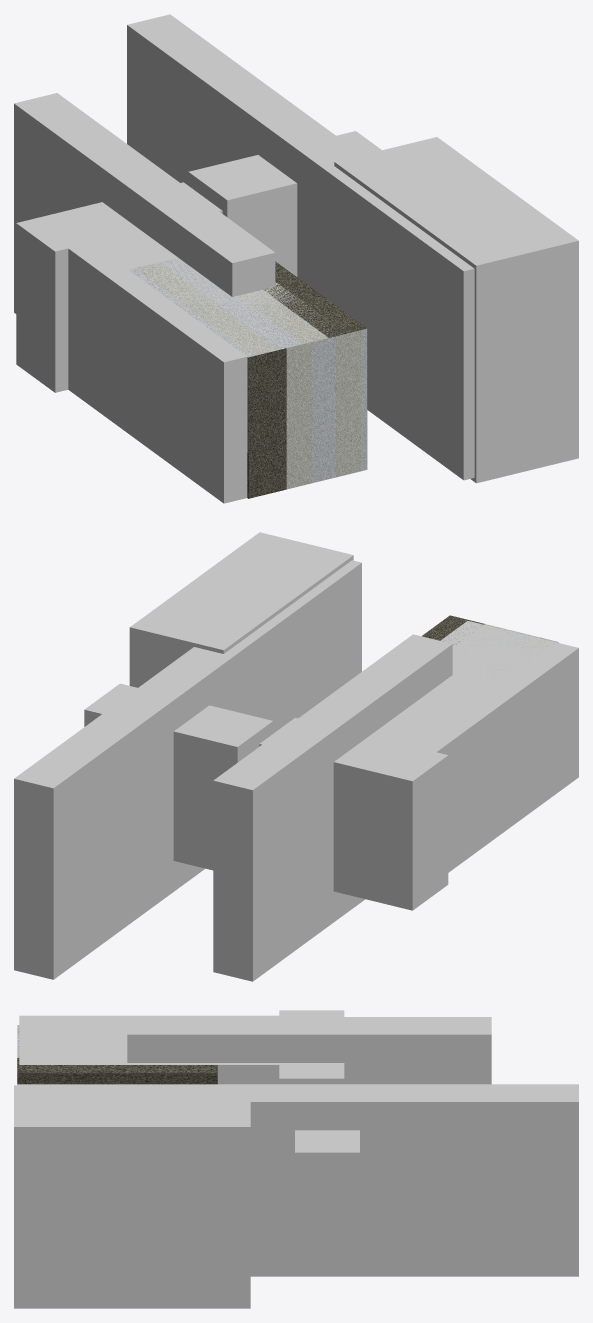
File: Marker_25_Mesh1.fbx
3 renders of one model, top to bottom at view 1: azimuth 30°, elevation 25°; view 2: azimuth 150°, elevation 25°; view 3: azimuth 270°, elevation 25°, orthographic. The views are drawn at different scales.
Visible parts, largest first — view 1: Cube.005, Cube.001, Cube.004, Cube.002, Cube.006, Cube.003, Cube; view 2: Cube.005, Cube.006, Cube.004, Cube.003, Cube.001, Cube, Cube.002; view 3: Cube.005, Cube.001, Cube.006, Cube, Cube.004, Cube.002, Cube.003.
Boxes of the visible parts, x1,y1,x2,y2 form: Cube.005: [127, 14, 474, 480]; Cube.001: [334, 137, 578, 483]; Cube.004: [68, 230, 331, 503]; Cube.002: [129, 257, 367, 498]; Cube.006: [14, 93, 275, 313]; Cube.003: [16, 182, 222, 392]; Cube: [188, 131, 381, 276]; Cube.005: [14, 560, 361, 979]; Cube.006: [213, 634, 452, 981]; Cube.004: [370, 621, 578, 872]; Cube.003: [259, 718, 448, 910]; Cube.001: [129, 532, 353, 687]; Cube: [84, 683, 273, 870]; Cube.002: [422, 615, 558, 676]; Cube.005: [17, 1084, 578, 1276]; Cube.001: [14, 1085, 250, 1308]; Cube.006: [127, 1017, 491, 1084]; Cube: [295, 1130, 359, 1270]; Cube.004: [19, 1015, 279, 1084]; Cube.002: [17, 1025, 217, 1084]; Cube.003: [279, 1010, 344, 1084].
Bounding box in the file's own units: 541 × 308 × 869.
